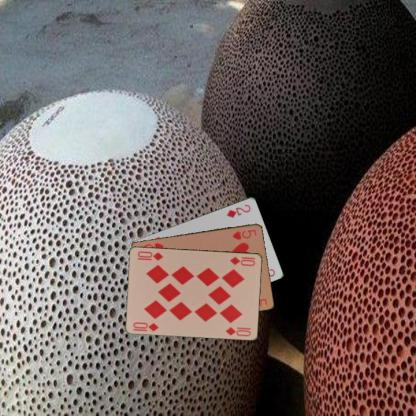10d: (228, 254, 257, 267), (131, 320, 160, 332)
2d: (224, 202, 252, 219)
5h: (230, 227, 258, 241)
